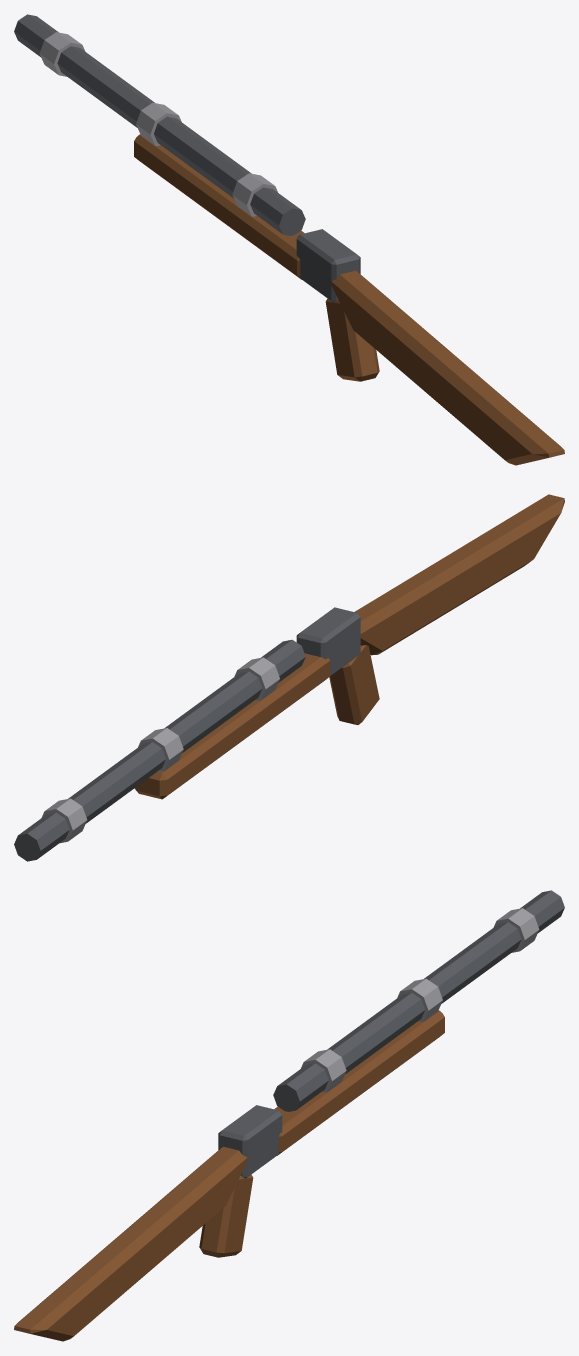
File: fusil_artisanal.glb
The picture shows the model from 3 angles, top to bottom: view 1: azimuth 30°, elevation 25°; view 2: azimuth 150°, elevation 25°; view 3: azimuth 330°, elevation 25°; orthographic projection.
Parts seen in each view (by area): view 1: fusil_artisanal; view 2: fusil_artisanal; view 3: fusil_artisanal.
Part boxes in pixels (left/top/right/bottom): fusil_artisanal: left=14, top=14, right=564, bottom=465; fusil_artisanal: left=14, top=494, right=564, bottom=861; fusil_artisanal: left=14, top=890, right=564, bottom=1341.
Bounding box in the file's own units: 0.04 × 0.1487 × 1.1.
